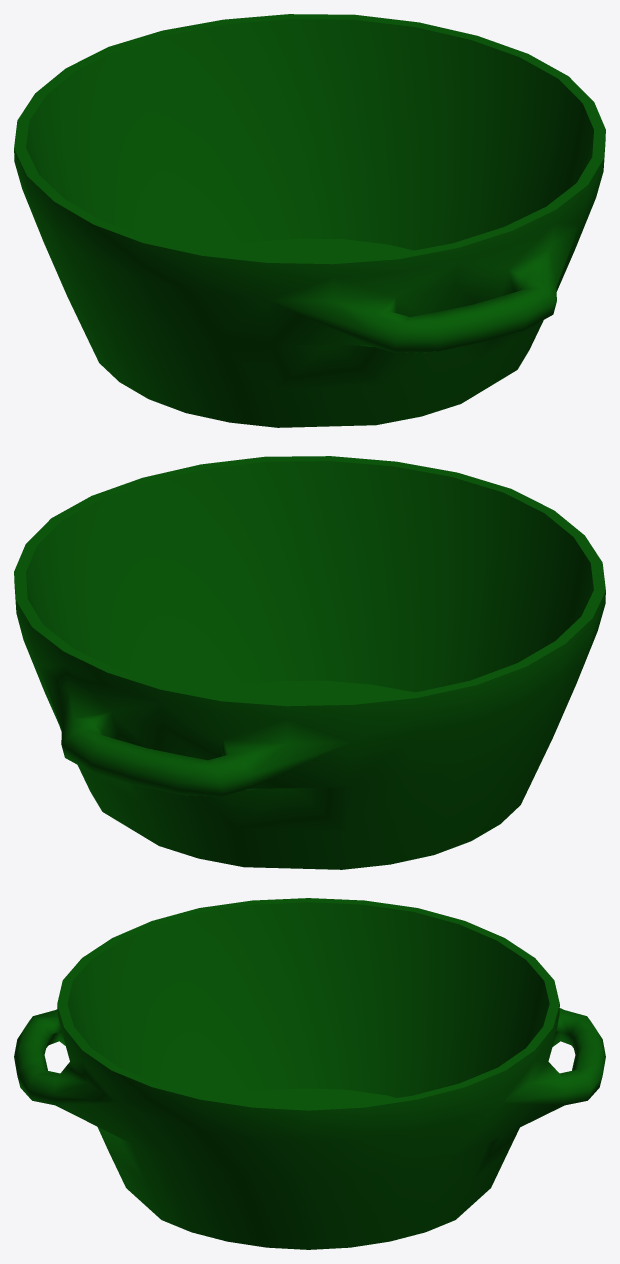
The model's file is jug12.FBX.
3 renders of one model, top to bottom at view 1: azimuth 30°, elevation 25°; view 2: azimuth 150°, elevation 25°; view 3: azimuth 270°, elevation 25°, orthographic. The views are drawn at different scales.
Visible parts, largest first — view 1: SM_jug12_0; view 2: SM_jug12_0; view 3: SM_jug12_0.
Part boxes in pixels (x1,y1,x2,y2): SM_jug12_0: (14,14,605,427); SM_jug12_0: (14,456,605,869); SM_jug12_0: (14,898,605,1249).
Size of the model in its own units: 37.16 by 43.73 by 13.57.
